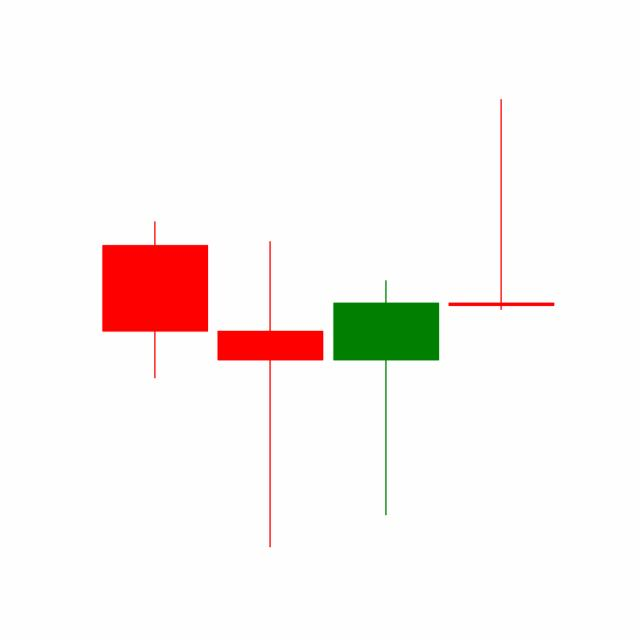Dragonfly Doji: (328, 277, 444, 518)
